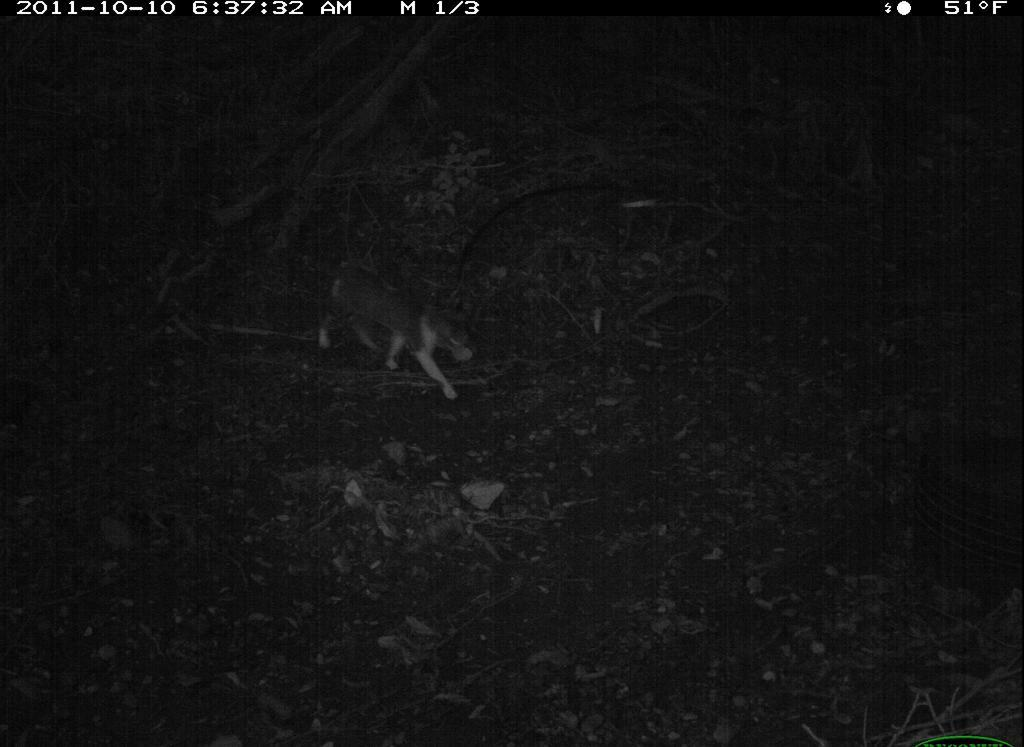cat: (305, 246, 486, 410)
